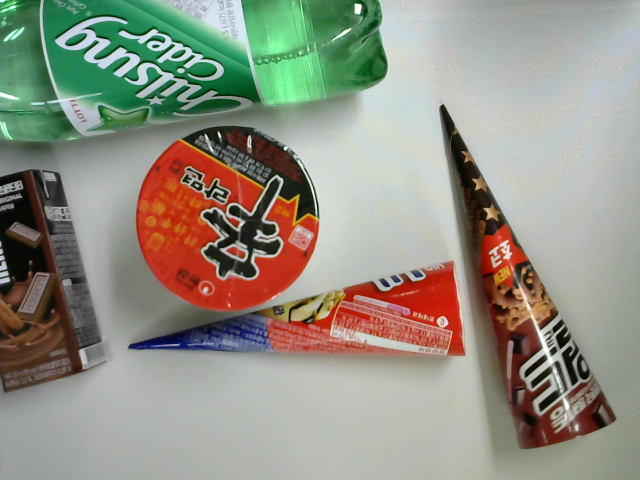Chilseong_Cider_1.5L: (1, 1, 392, 148)
Choco_E_Mong: (1, 166, 110, 393)
Sinramen_small: (133, 123, 321, 316)
World_Cone_Banila: (125, 259, 466, 351)
World_Cone_Choco: (439, 104, 617, 453)
